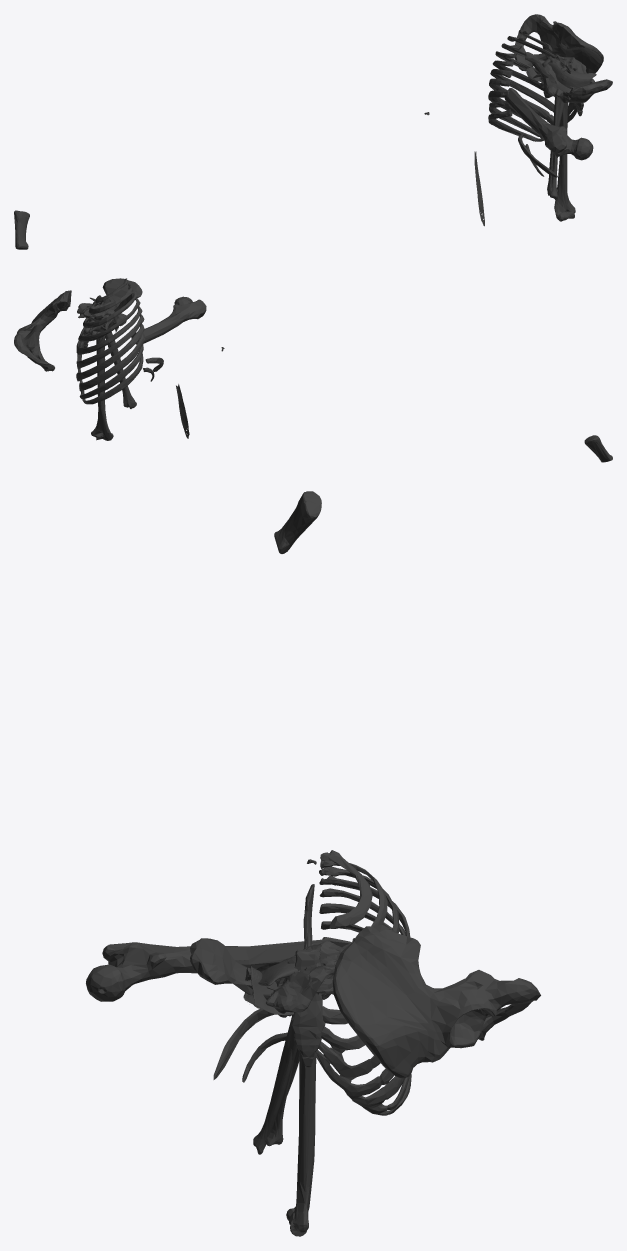
The model's file is sharedassets38.glb.
The picture shows the model from 3 angles, top to bottom: view 1: azimuth 30°, elevation 25°; view 2: azimuth 150°, elevation 25°; view 3: azimuth 270°, elevation 25°; orthographic projection. The views are drawn at different scales.
Visible parts, largest first — view 1: 0075_Femur _thigh_, R_male_000930, 0092_Ilium, R__001012, 0035_Humerus _arm, brachium_, R__000807, 0088_S01-05 Sacrum__001242, 0073_Sixth rib _06_, R__002278, 0002_Deltoid, middle head, R__100085, 0090_Ischium, R__001010, 0074_Seventh rib _07_, R__002279, 0009_2nd Middle phalanx _hand_, R__000815, 0067_Tenth rib _10_, R__002282, 0061_Manubrium__001162, 0033_Ulna _forearm, antebrachium_, R__000808 (+3 smaller); view 2: 0075_Femur _thigh_, R_male_000930, 0092_Ilium, R__001012, 0035_Humerus _arm, brachium_, R__000807, 0065_Eighth rib _08_, R__002280, 0074_Seventh rib _07_, R__002279, 0073_Sixth rib _06_, R__002278, 0090_Ischium, R__001010, 0061_Manubrium__001162, 0066_Ninth rib _09_, R__002281, 0072_Fifth rib _05_, R__002277, 0067_Tenth rib _10_, R__002282, 0088_S01-05 Sacrum__001242 (+7 smaller); view 3: 0092_Ilium, R__001012, 0075_Femur _thigh_, R_male_000930, 0035_Humerus _arm, brachium_, R__000807, 0090_Ischium, R__001010, 0088_S01-05 Sacrum__001242, 0061_Manubrium__001162, 0062_Body of sternum__001163, 0091_Pubis, R__001011, 0009_2nd Middle phalanx _hand_, R__000815, 0033_Ulna _forearm, antebrachium_, R__000808, 0073_Sixth rib _06_, R__002278, 0068_First rib _01_, R__002273 (+2 smaller).
Boxes of the visible parts, x1,y1,x2,y2 form: 0075_Femur _thigh_, R_male_000930: (504, 88, 593, 160); 0092_Ilium, R__001012: (548, 21, 603, 73); 0035_Humerus _arm, brachium_, R__000807: (554, 102, 575, 221); 0088_S01-05 Sacrum__001242: (541, 54, 594, 102); 0073_Sixth rib _06_, R__002278: (490, 69, 575, 115); 0002_Deltoid, middle head, R__100085: (541, 62, 594, 103); 0090_Ischium, R__001010: (515, 14, 553, 44); 0074_Seventh rib _07_, R__002279: (489, 78, 576, 124); 0009_2nd Middle phalanx _hand_, R__000815: (14, 210, 29, 249); 0067_Tenth rib _10_, R__002282: (488, 109, 544, 141); 0061_Manubrium__001162: (569, 79, 612, 97); 0033_Ulna _forearm, antebrachium_, R__000808: (549, 67, 566, 200); 0075_Femur _thigh_, R_male_000930: (131, 296, 206, 344); 0092_Ilium, R__001012: (30, 290, 71, 339); 0035_Humerus _arm, brachium_, R__000807: (91, 337, 113, 440); 0065_Eighth rib _08_, R__002280: (79, 333, 144, 392); 0074_Seventh rib _07_, R__002279: (76, 324, 144, 381); 0073_Sixth rib _06_, R__002278: (76, 314, 144, 369); 0090_Ischium, R__001010: (14, 324, 40, 363); 0061_Manubrium__001162: (102, 278, 142, 306); 0066_Ninth rib _09_, R__002281: (79, 344, 143, 399); 0072_Fifth rib _05_, R__002277: (76, 306, 142, 354); 0067_Tenth rib _10_, R__002282: (82, 353, 143, 404); 0088_S01-05 Sacrum__001242: (77, 302, 126, 326); 0092_Ilium, R__001012: (332, 924, 462, 1078); 0075_Femur _thigh_, R_male_000930: (86, 939, 330, 1001); 0035_Humerus _arm, brachium_, R__000807: (286, 1051, 316, 1236); 0090_Ischium, R__001010: (453, 970, 540, 1017); 0088_S01-05 Sacrum__001242: (263, 941, 343, 1017); 0061_Manubrium__001162: (190, 938, 253, 995); 0062_Body of sternum__001163: (291, 949, 325, 1057); 0091_Pubis, R__001011: (451, 1006, 521, 1048); 0009_2nd Middle phalanx _hand_, R__000815: (274, 491, 321, 553); 0033_Ulna _forearm, antebrachium_, R__000808: (253, 1014, 297, 1154); 0073_Sixth rib _06_, R__002278: (318, 903, 392, 1080); 0068_First rib _01_, R__002273: (320, 850, 372, 928).
Size of the model in its own units: 0.7176 by 0.2153 by 0.254.
1 material, 1 textured.
